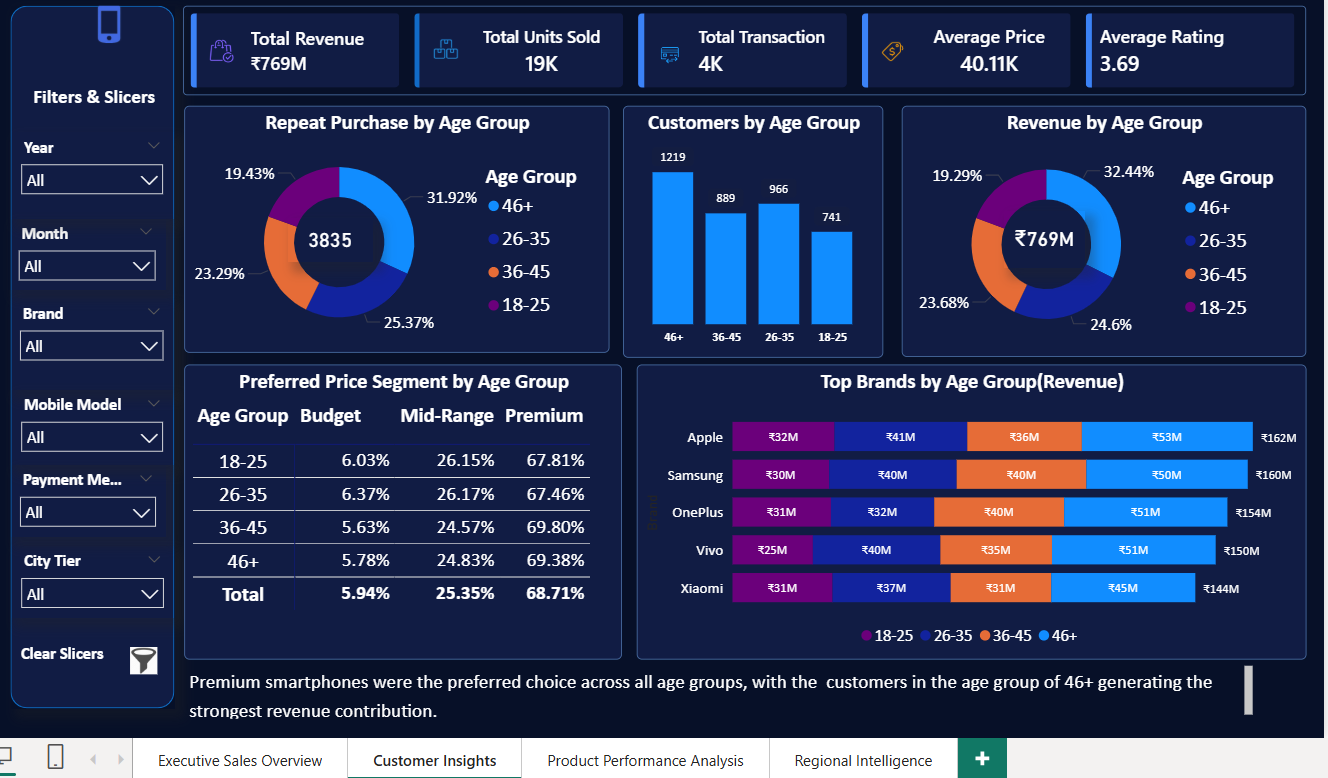

The page's visual inventory and layout, read from the dashboard file:
{"tool":"powerbi","page":{"name":"Customer Insights","canvas":[1280,720],"ordinal":1},"visuals":[{"type":"shape","box":[12.1,13.3,158,678],"z":0},{"type":"image","box":[16.9,13.3,181,36.2],"z":1000},{"type":"slicer","fields":{"Values":["Dim_Date.Date.Variation.Date Hierarchy.Month"]},"box":[10,218.8,152.5,68.8],"z":2000},{"type":"slicer","fields":{"Values":["Sales_Data.Brand"]},"box":[11.2,295,158.8,88.8],"z":3000},{"type":"slicer","fields":{"Values":["Sales_Data.Mobile Model"]},"box":[12.5,383.8,157.5,72.5],"z":4000},{"type":"slicer","fields":{"Values":["Sales_Data.Payment Method"]},"box":[11.2,456.2,151.2,70],"z":5000},{"type":"textbox","box":[29,80.8,155.6,38.6],"z":6000},{"type":"image","box":[121.9,632.2,37.4,26.5],"z":7000},{"type":"columnChart","title":"Customers by Age Group","fields":{"Category":["Dim_Customer.Age Group"],"Y":["Fact_Sales.Customer Count"]},"box":[602.9,110,251.4,242.9],"z":8000},{"type":"slicer","fields":{"Values":["Dim_Date.Date.Variation.Date Hierarchy.Year"]},"box":[12.5,135,157.5,83.8],"z":9000},{"type":"barChart","title":"Top Brands by Age Group(Revenue)","fields":{"Category":["Dim_Product.Brand"],"Series":["Dim_Customer.Age Group"],"Y":["Fact_Sales.Total Revenue"]},"box":[616.2,360,646.2,285],"z":10000},{"type":"donutChart","title":"Revenue by Age Group","fields":{"Y":["Fact_Sales.Total Revenue"],"Category":["Dim_Customer.Age Group"]},"box":[872.5,110,390,242.5],"z":11000},{"type":"slicer","fields":{"Values":["Dim_Customer.City Tier"]},"box":[12.1,534.5,158,70],"z":12000},{"type":"card","fields":{"Values":["Fact_Sales.Total Revenue"]},"box":[971.2,211.2,77.5,55],"z":13000},{"type":"donutChart","title":"Repeat Purchase by Age Group","fields":{"Category":["Dim_Customer.Age Group"],"Y":["CountNonNull(Fact_Sales.Transaction ID)"]},"box":[180,110,410,238.6],"z":14000},{"type":"card","fields":{"Values":["CountNonNull(Fact_Sales.Transaction ID)"]},"box":[279.9,218.4,82,42.2],"z":15000},{"type":"pivotTable","title":"Preferred Price Segment by Age Group","fields":{"Rows":["Dim_Customer.Age Group"],"Columns":["Dim_Product.Price Segment"],"Values":["Fact_Sales.Total Revenue"]},"box":[180,360,422.5,285],"z":16000},{"type":"textbox","box":[16.9,617.7,133.9,55.5],"z":17000},{"type":"cardVisual","fields":{"Data":["Sales_Data.Total Sales","Sales_Data.Total Quantity","Sales_Data.Total Transaction","Sales_Data.Average","Fact_Sales.Average Rating"]},"box":[178.8,13.8,1083.8,86.2],"z":18000},{"type":"textbox","box":[180,645,1036.2,61.2],"z":19000}]}

Visuals, with their boxes on the page's 1280x720 design canvas (x1, y1, x2, y2). These are canvas units, not pixel positions in the 1328x778 screenshot, which may show the page scaled, cropped or inside an application window:
shape: left=12, top=13, right=170, bottom=691
image: left=17, top=13, right=198, bottom=50
slicer - Dim_Date.Date.Variation.Date Hierarchy.Month: left=10, top=219, right=162, bottom=288
slicer - Sales_Data.Brand: left=11, top=295, right=170, bottom=384
slicer - Sales_Data.Mobile Model: left=12, top=384, right=170, bottom=456
slicer - Sales_Data.Payment Method: left=11, top=456, right=162, bottom=526
textbox: left=29, top=81, right=185, bottom=119
image: left=122, top=632, right=159, bottom=659
"Customers by Age Group" columnChart: left=603, top=110, right=854, bottom=353
slicer - Dim_Date.Date.Variation.Date Hierarchy.Year: left=12, top=135, right=170, bottom=219
"Top Brands by Age Group(Revenue)" barChart: left=616, top=360, right=1262, bottom=645
"Revenue by Age Group" donutChart: left=872, top=110, right=1262, bottom=352
slicer - Dim_Customer.City Tier: left=12, top=534, right=170, bottom=604
card - Fact_Sales.Total Revenue: left=971, top=211, right=1049, bottom=266
"Repeat Purchase by Age Group" donutChart: left=180, top=110, right=590, bottom=349
card - CountNonNull(Fact_Sales.Transaction ID): left=280, top=218, right=362, bottom=261
"Preferred Price Segment by Age Group" pivotTable: left=180, top=360, right=602, bottom=645
textbox: left=17, top=618, right=151, bottom=673
cardVisual - Sales_Data.Total Sales x Sales_Data.Total Quantity: left=179, top=14, right=1263, bottom=100
textbox: left=180, top=645, right=1216, bottom=706
